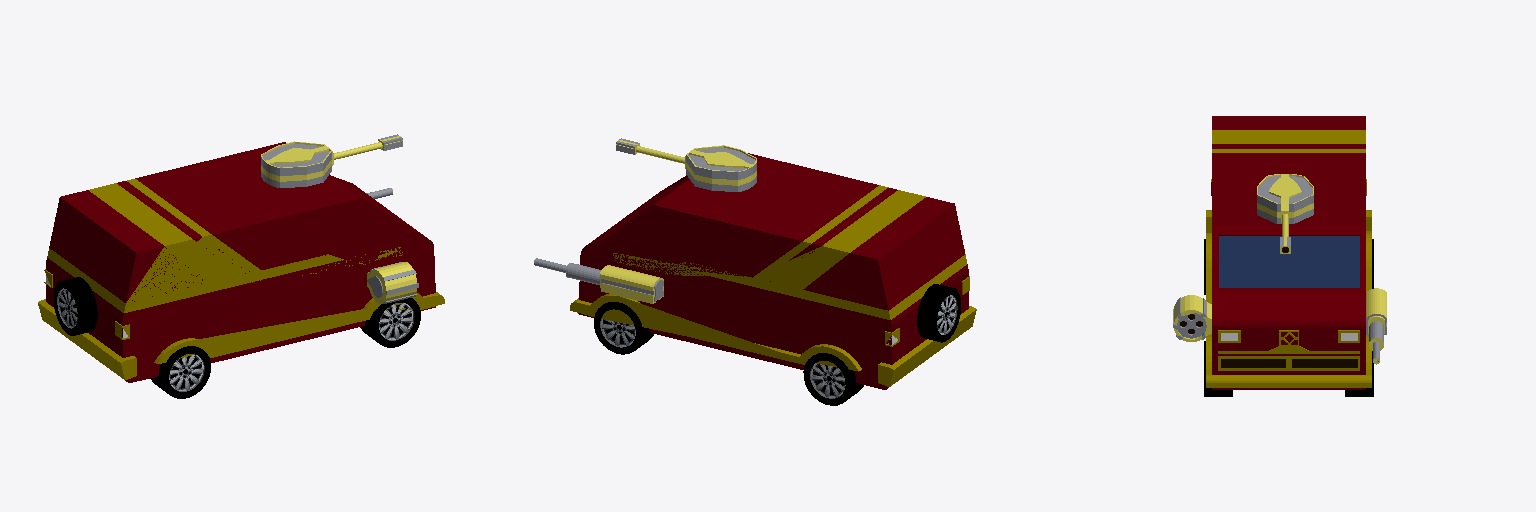
3 views of the same model, side by side, from view 1: azimuth 30°, elevation 25°; view 2: azimuth 150°, elevation 25°; view 3: azimuth 270°, elevation 25° (orthographic).
Visible parts, largest first — view 1: Mesh1 Group4 Group3 Group2 Group1 Model, Mesh5 skp6818_1 Model, Mesh8 skpD442_2 Model, Mesh14 skpD442_5 Model, Mesh6 skpD442_1 Model, Mesh2 skp9D89_1 Group2 Group1 Model; view 2: Mesh1 Group4 Group3 Group2 Group1 Model, Mesh5 skp6818_1 Model, Mesh3 skp5945_1 Group1 Model, Mesh12 skpD442_4 Model, Mesh14 skpD442_5 Model, Mesh10 skpD442_3 Model; view 3: Mesh1 Group4 Group3 Group2 Group1 Model, Mesh5 skp6818_1 Model, Mesh2 skp9D89_1 Group2 Group1 Model, Mesh3 skp5945_1 Group1 Model.
Part boxes in pixels (x1,y1,x2,y2): Mesh1 Group4 Group3 Group2 Group1 Model: (38,142,444,382); Mesh5 skp6818_1 Model: (261,141,382,187); Mesh8 skpD442_2 Model: (150,346,210,398); Mesh14 skpD442_5 Model: (53,277,97,335); Mesh6 skpD442_1 Model: (360,298,420,347); Mesh2 skp9D89_1 Group2 Group1 Model: (367,262,418,303); Mesh1 Group4 Group3 Group2 Group1 Model: (570,153,976,389); Mesh5 skp6818_1 Model: (636,145,756,191); Mesh3 skp5945_1 Group1 Model: (534,258,663,303); Mesh12 skpD442_4 Model: (803,353,863,405); Mesh14 skpD442_5 Model: (917,284,960,342); Mesh10 skpD442_3 Model: (594,302,653,354); Mesh1 Group4 Group3 Group2 Group1 Model: (1206,116,1371,389); Mesh5 skp6818_1 Model: (1257,174,1313,236); Mesh2 skp9D89_1 Group2 Group1 Model: (1173,295,1211,341); Mesh3 skp5945_1 Group1 Model: (1366,288,1386,364).
Size of the model in its own units: 3.4 by 1.56 by 1.72.
12 materials, 1 textured.